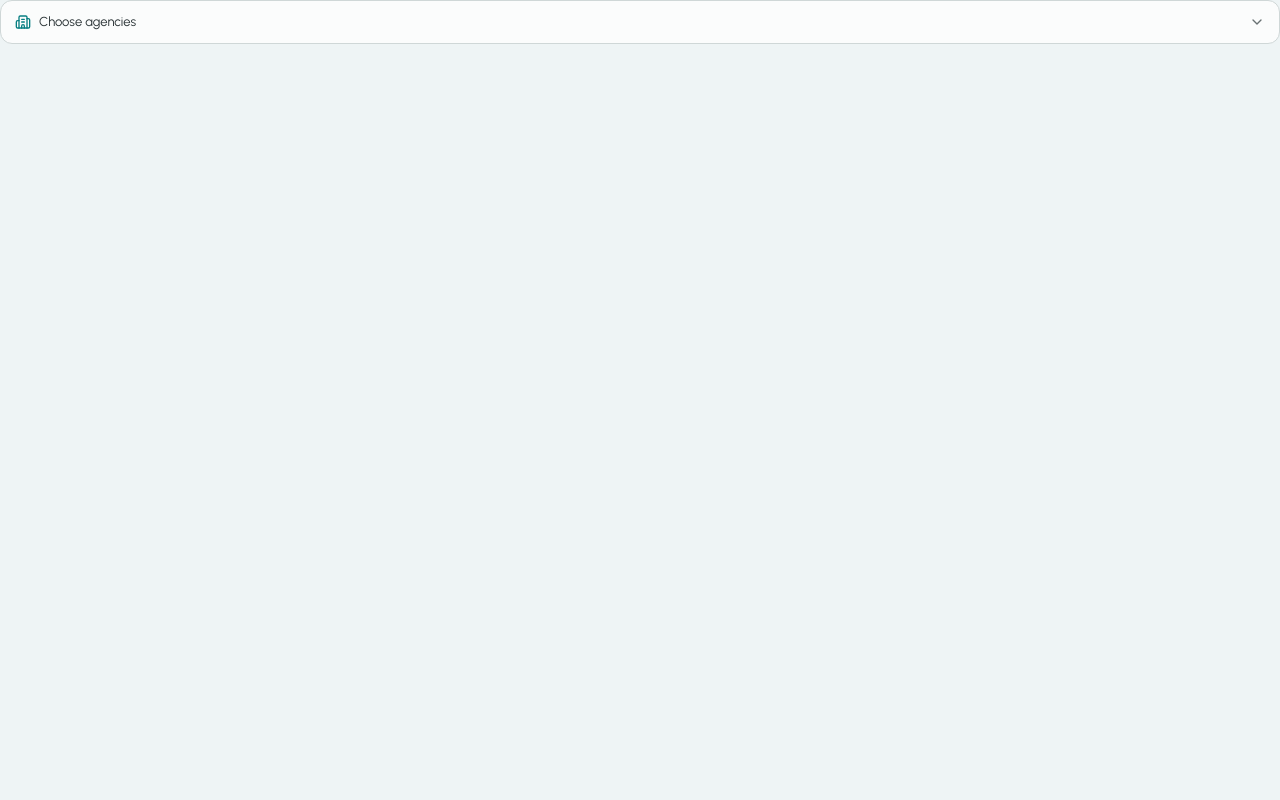
Test: OperationalAgencySelector › supports Arrow navigation, selection, Escape, and trigger focus restoration
Later steps or results of the test are not shown.
Click the button with aria-label "Select agencies, none selected" at {"x": 88, "y": 22}, box [0, 0, 1279, 44]
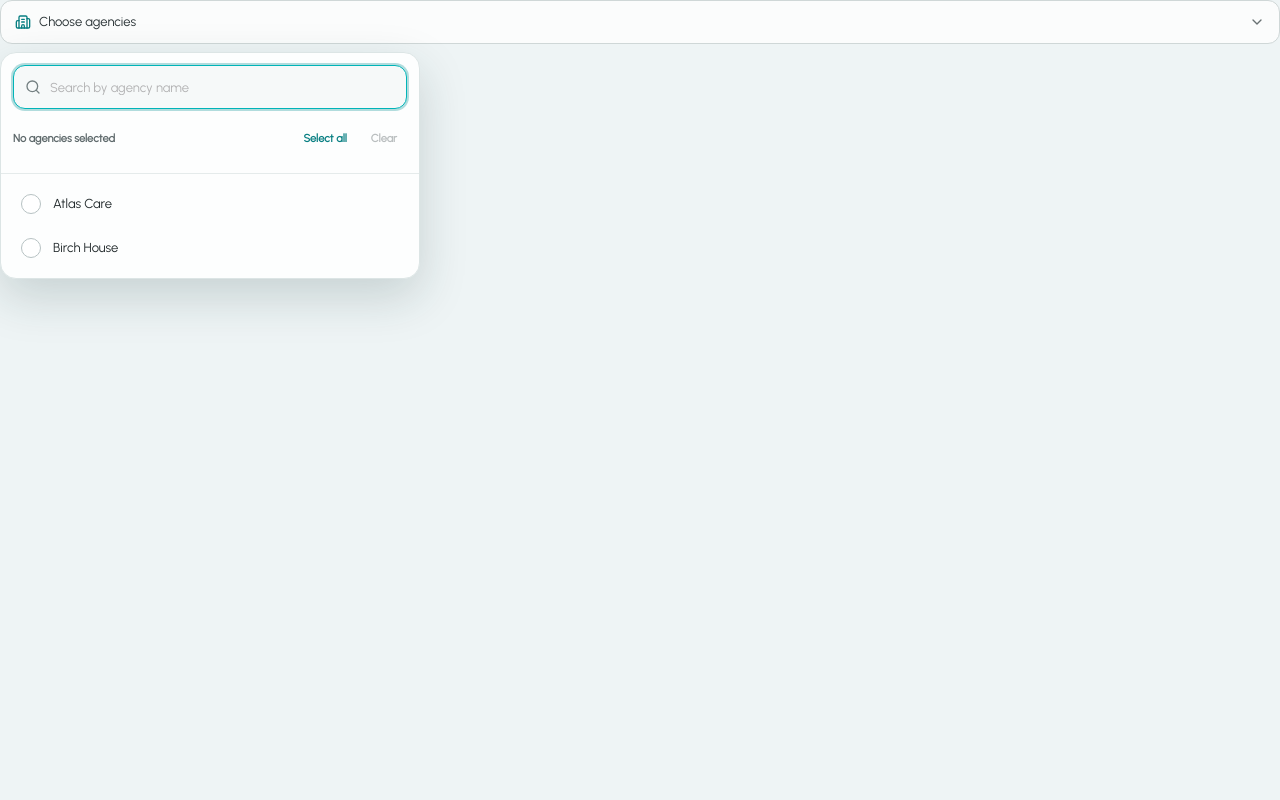
Press Arrowdown Enter
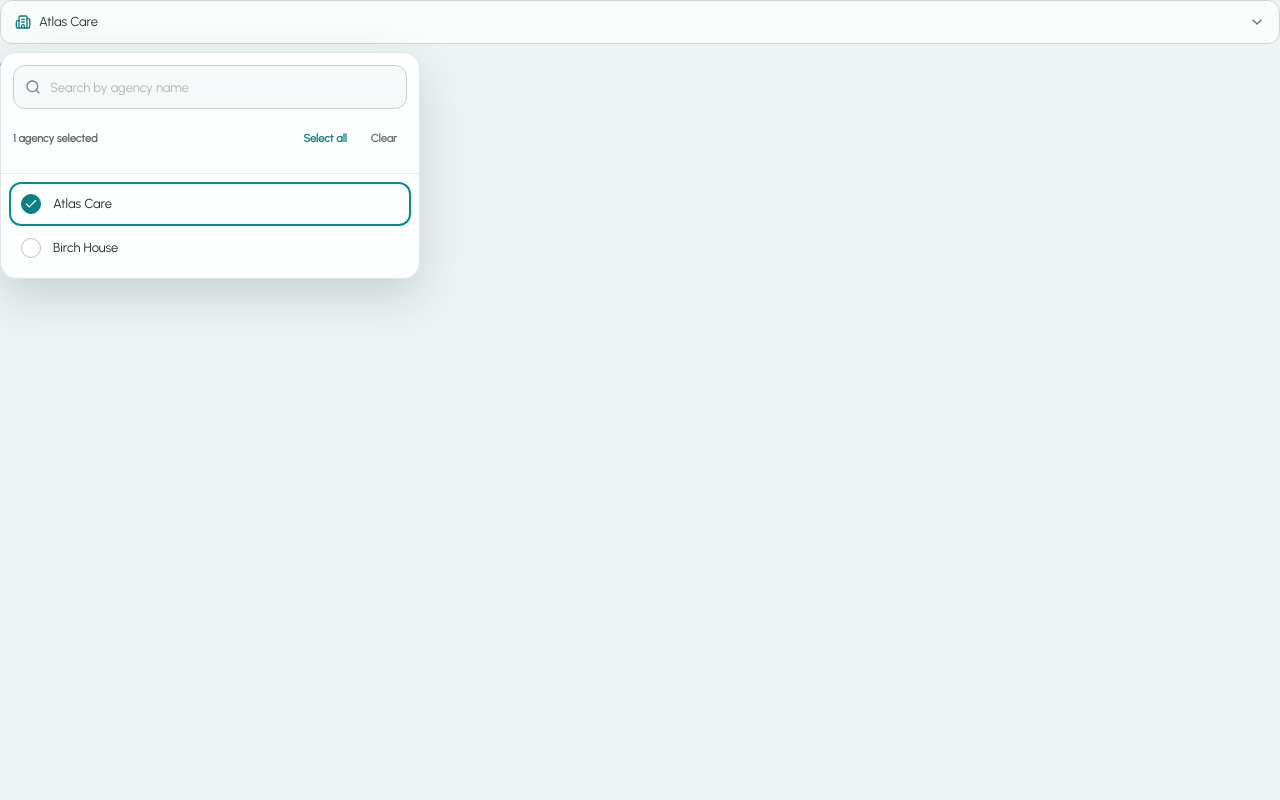
Expected: the text named "Selected agency IDs" reads "atlas", [0, 54, 34, 73]
